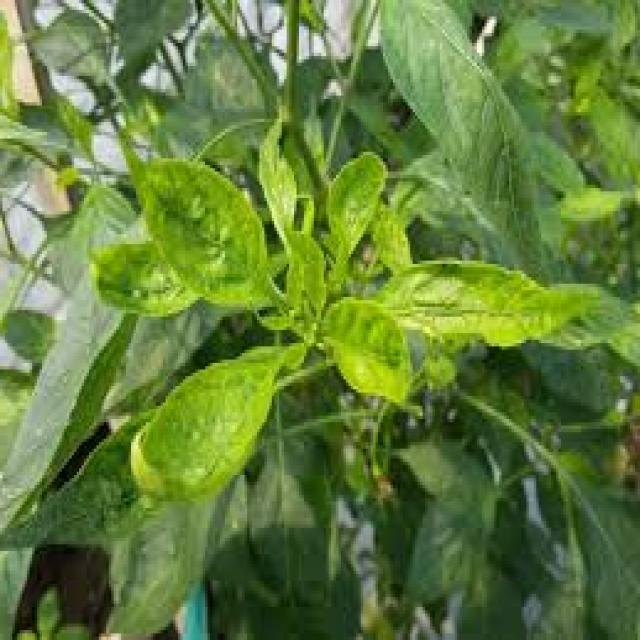virus_kuning: (368, 232, 584, 374), (135, 151, 267, 311)
